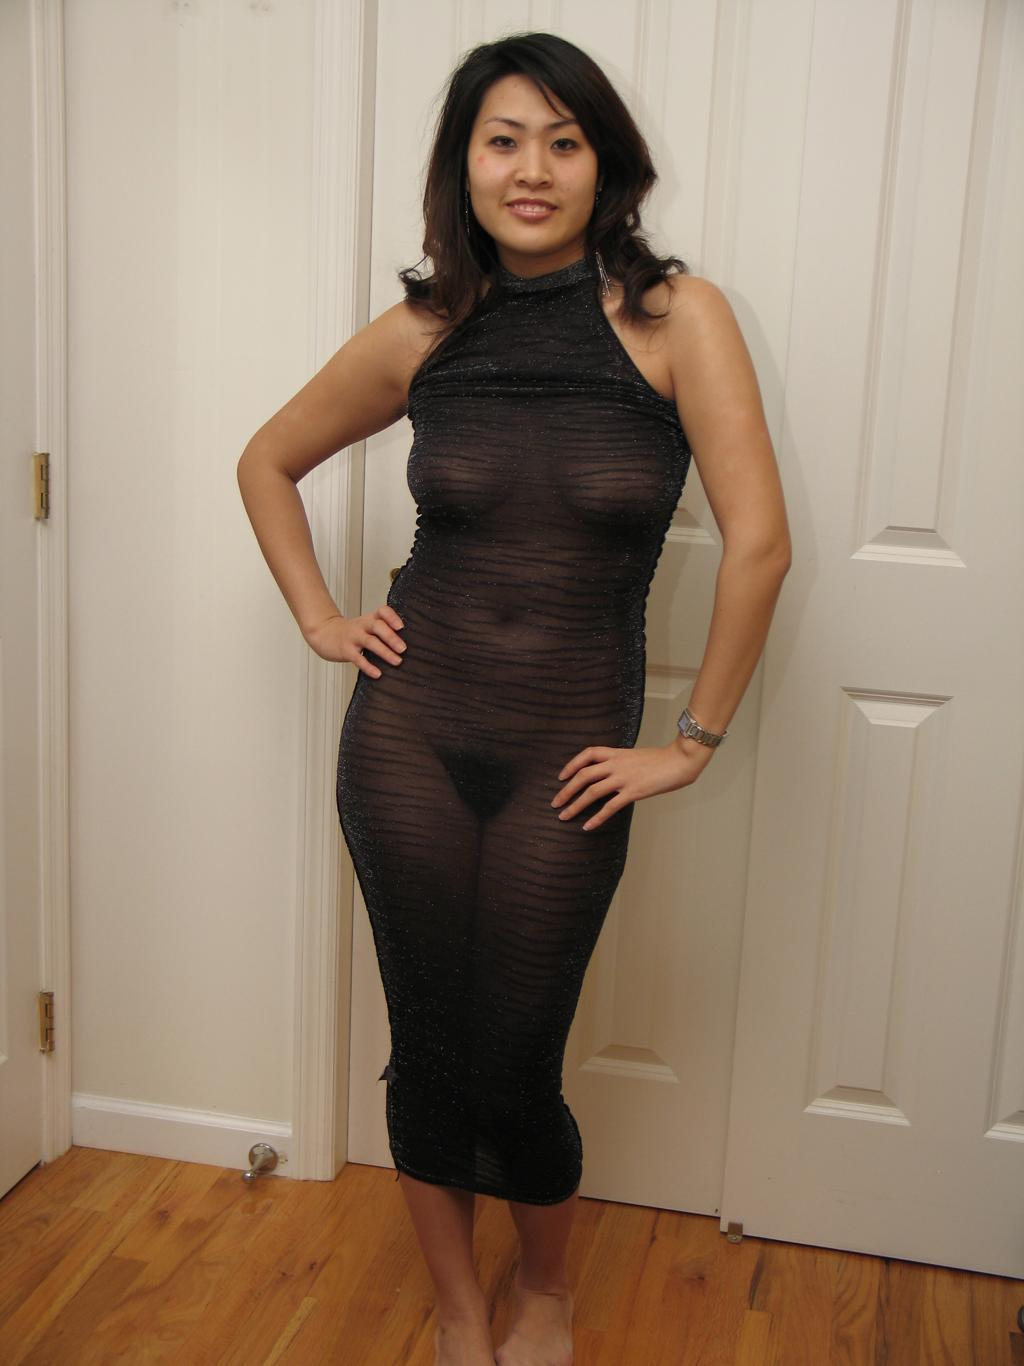face: (465, 76, 604, 252)
